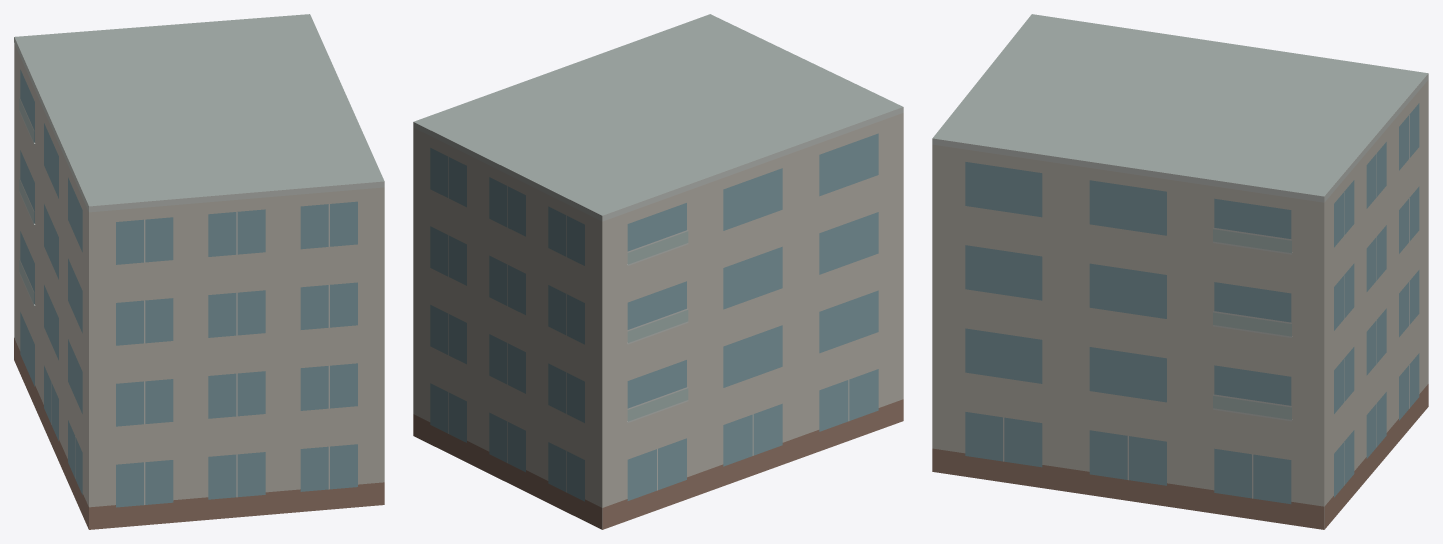
The model's file is survey-upis-32886027.glb.
3 views of the same model, side by side, from view 1: azimuth 30°, elevation 25°; view 2: azimuth 150°, elevation 25°; view 3: azimuth 270°, elevation 25° (orthographic). The views are drawn at different scales.
Parts seen in each view (by area): view 1: survey-upis-32886027.tmp; view 2: survey-upis-32886027.tmp; view 3: survey-upis-32886027.tmp.
Part boxes in pixels (<box>): survey-upis-32886027.tmp: <box>14,14,384,529</box>; survey-upis-32886027.tmp: <box>413,14,903,529</box>; survey-upis-32886027.tmp: <box>932,14,1428,529</box>.
Size of the model in its own units: 15.51 by 13.2 by 17.82.
